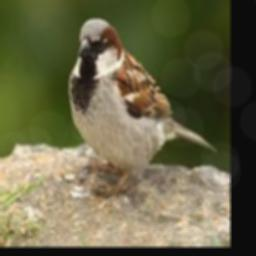Sparrow: (69, 18, 216, 198)
